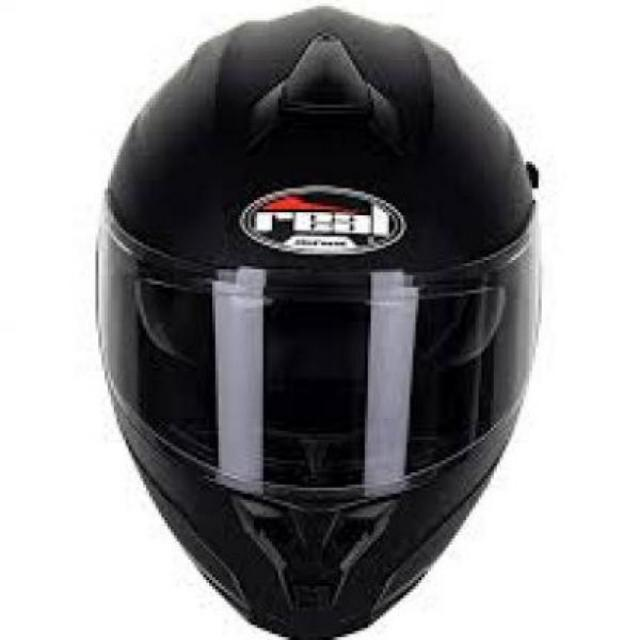Helmet: (95, 16, 541, 627)
